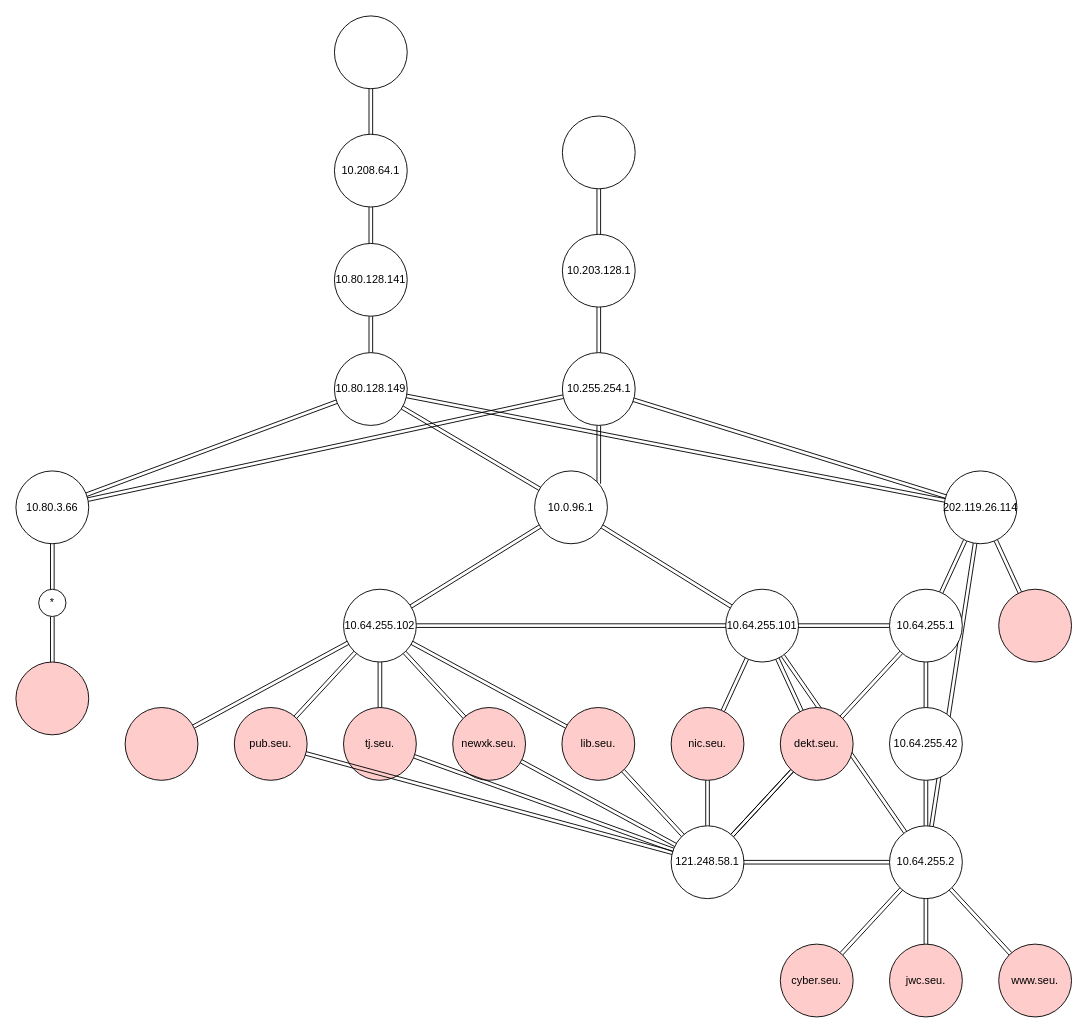
This 1087x1033 diagram has some shape labels left out. The box of each missing label's shape, as (x1, y1, x2, y2) in pixels:
ehall.seu.: (124, 707, 198, 780)
gsas.seu.: (15, 661, 89, 735)
phylab.seu.: (998, 588, 1072, 662)
教学楼: (561, 115, 635, 189)
梅园4: (334, 15, 407, 89)
